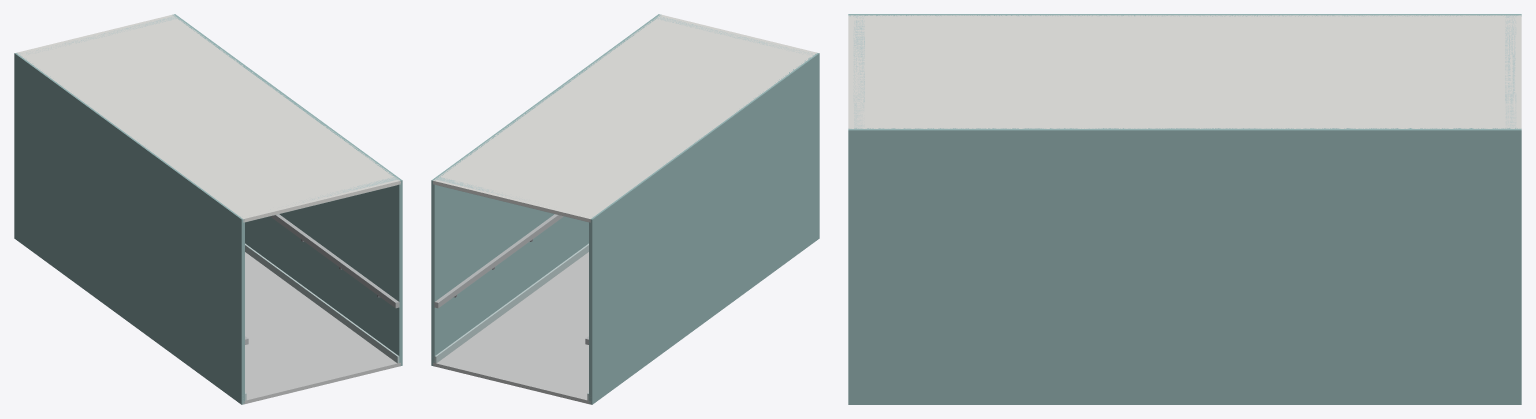
File: Corridor_module.glb
The picture shows the model from 3 angles, left to right: view 1: azimuth 30°, elevation 25°; view 2: azimuth 150°, elevation 25°; view 3: azimuth 270°, elevation 25°; orthographic projection. The views are drawn at different scales.
Parts seen in each view (by area): view 1: Corridor_module; view 2: Corridor_module; view 3: Corridor_module.
Part boxes in pixels (x1,y1,x2,y2): Corridor_module: (14, 14, 402, 404); Corridor_module: (431, 14, 819, 404); Corridor_module: (848, 14, 1521, 404).
Size of the model in its own units: 2.45 by 2.7 by 6.
